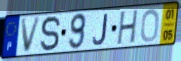9: (67, 12, 87, 52)
H: (116, 8, 140, 47)
J: (92, 13, 109, 46)
O: (140, 8, 161, 44)
S: (39, 14, 62, 53)
V: (20, 16, 43, 55)
